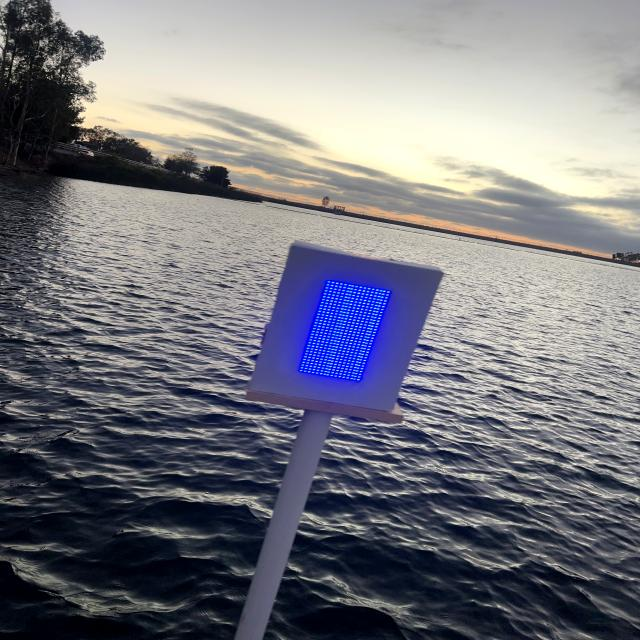led: (291, 258, 392, 406)
